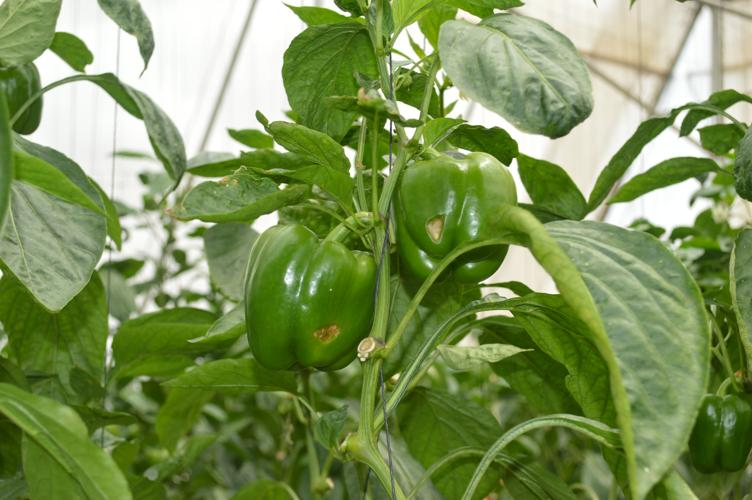BellPepper: (238, 219, 373, 372), (381, 151, 513, 283), (686, 397, 752, 475)
